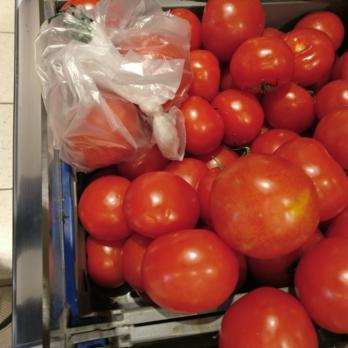Tomato: (171, 5, 348, 340)
